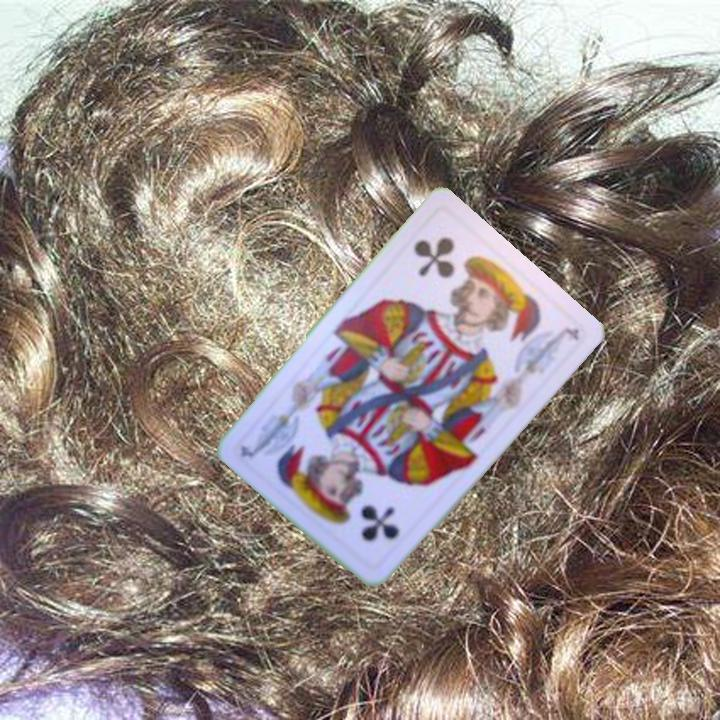c_j.png: (386, 205, 516, 333), (301, 444, 430, 572)
